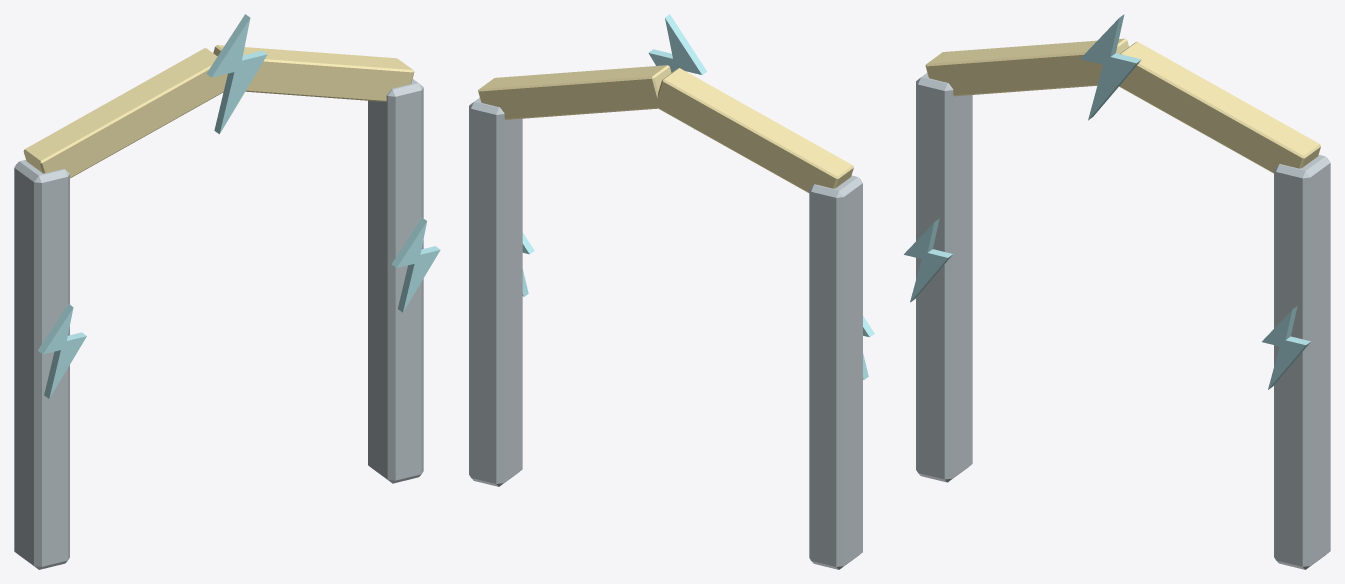
File: Storm_Gateway.fbx
3 renders of one model, left to right at view 1: azimuth 30°, elevation 25°; view 2: azimuth 150°, elevation 25°; view 3: azimuth 330°, elevation 25°, orthographic. The views are drawn at different scales.
Parts seen in each view (by area): view 1: Storm_Gateway; view 2: Storm_Gateway; view 3: Storm_Gateway.
Part boxes in pixels (left/top/right/bottom): Storm_Gateway: left=14, top=14, right=440, bottom=569; Storm_Gateway: left=469, top=14, right=874, bottom=569; Storm_Gateway: left=904, top=14, right=1330, bottom=569.
Size of the model in its own units: 243 by 297 by 35.25.
